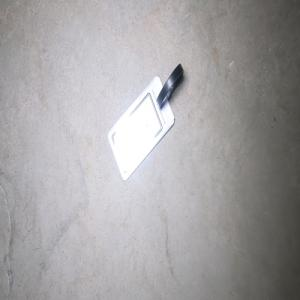LuggageTag: (106, 61, 184, 182)
